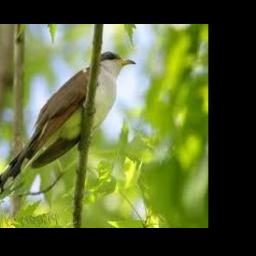Cuckoo: (0, 51, 136, 199)
